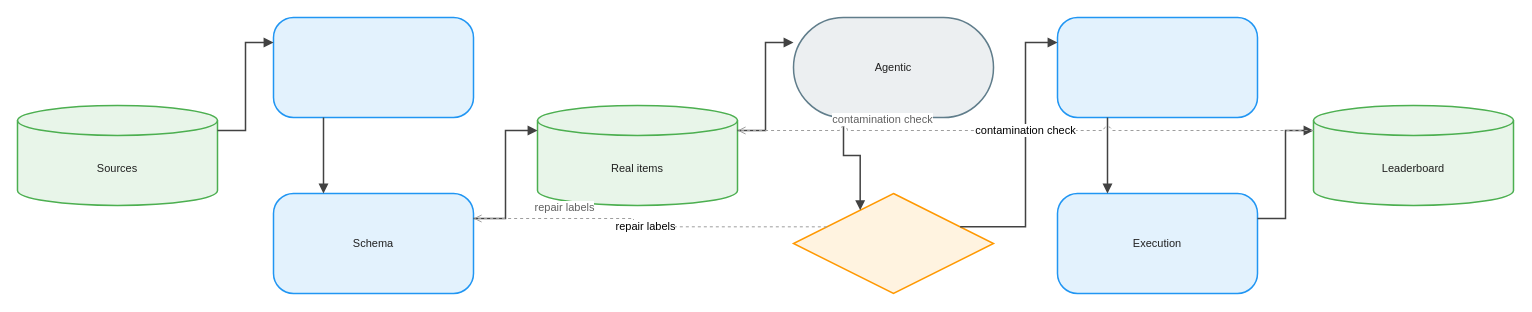
Some shapes in this 1532 by 312 pixel diagram are drawn without their labels. The shapes that lost their labels are listed below. From the top down, each one's centre as x and y in pixels, then its label:
At point 373,67: "Four sets".
At point 1157,67: "AST match".
At point 893,243: "GT checks".
